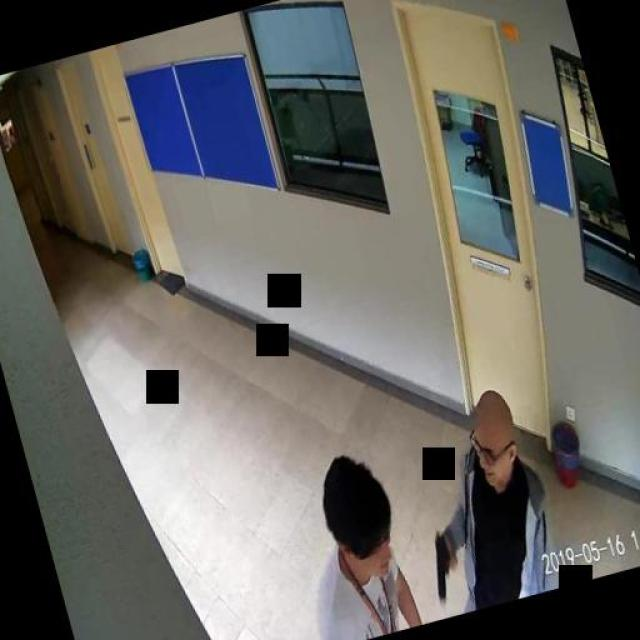gun: (420, 526, 461, 600)
